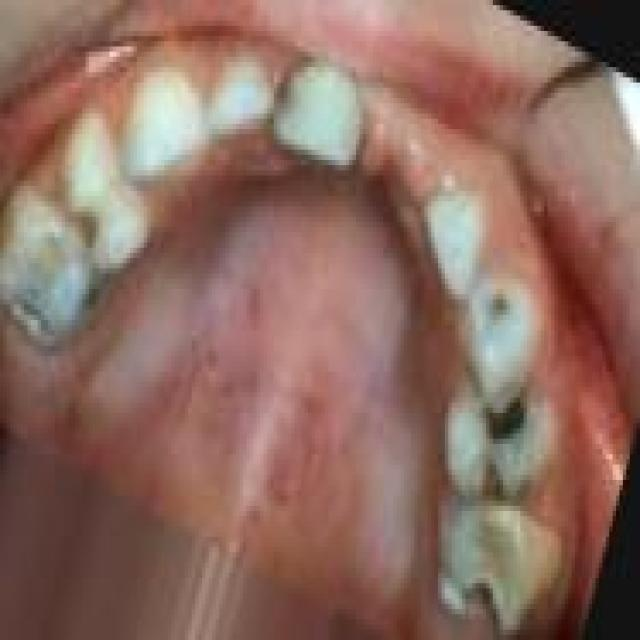caries: (444, 500, 537, 636), (458, 382, 540, 501), (0, 258, 51, 356), (473, 274, 528, 352), (64, 248, 114, 332)
